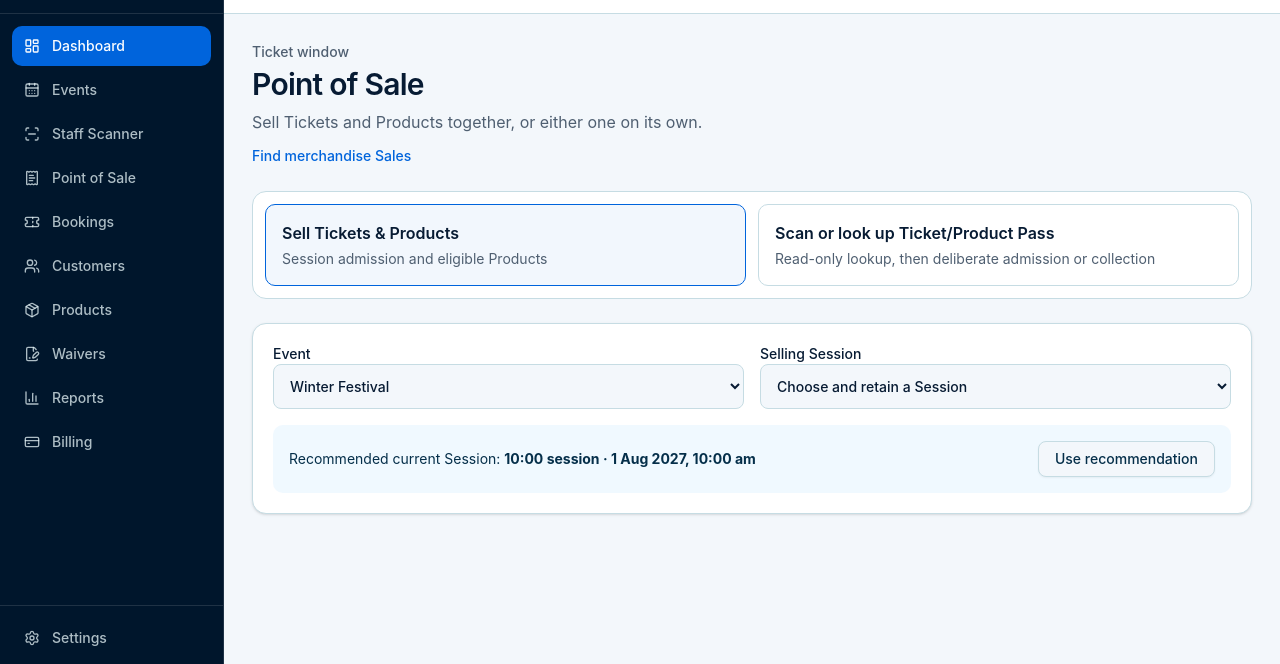
Scenario: PosPage › requires an explicit POS terms confirmation without collecting marketing
Click the button "Use recommendation".
click(1126, 459)  # box [1038,441,1215,477]
(page scrolled)
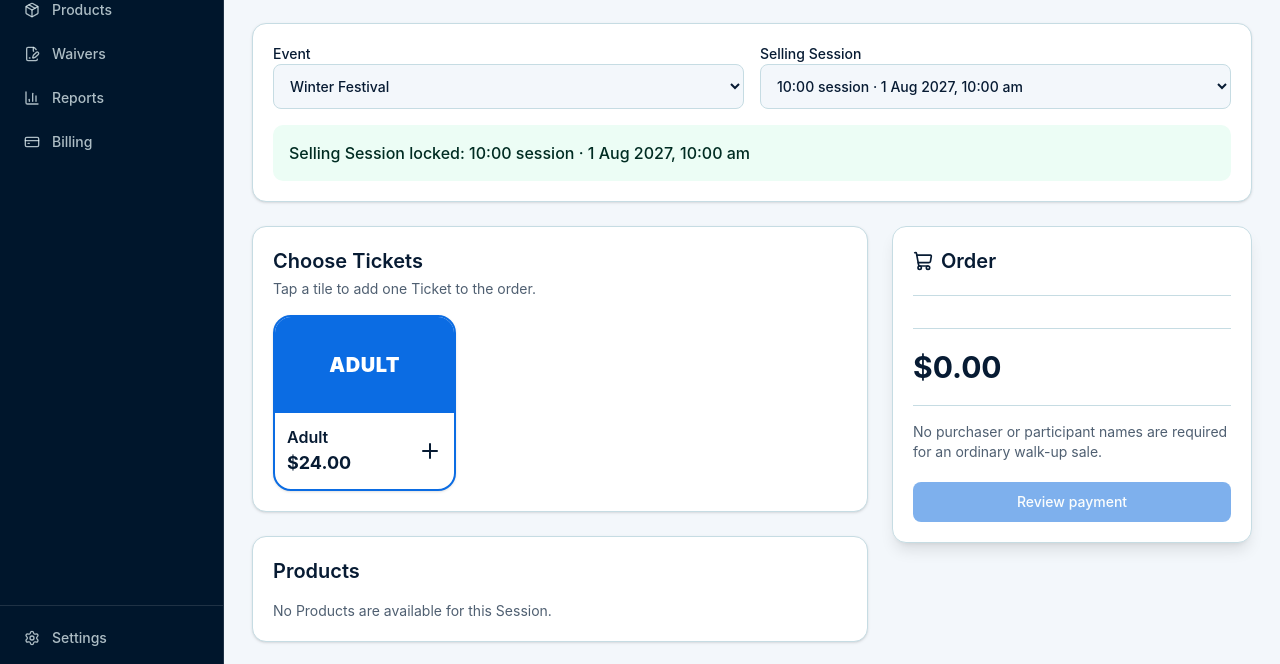
Click the button with aria-label "Add Ticket Adult".
click(365, 403)  # box [273,315,456,491]
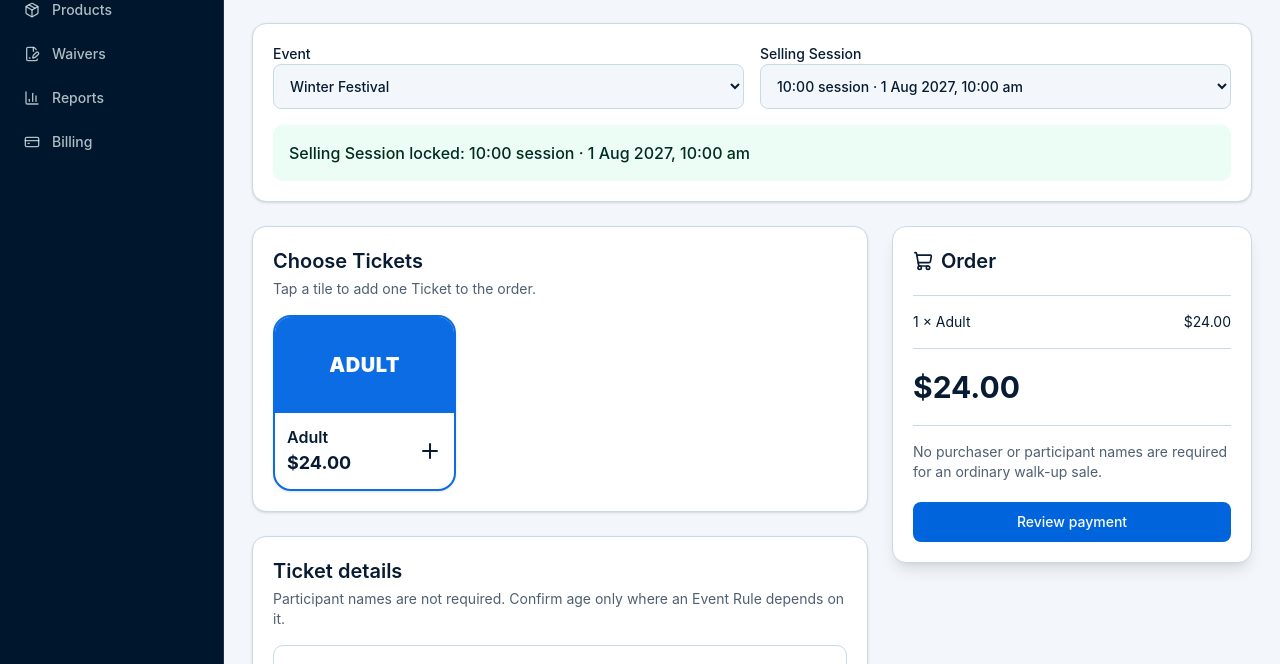
Click the button "Review payment".
click(1072, 522)  # box [913,502,1231,542]
(page scrolled)
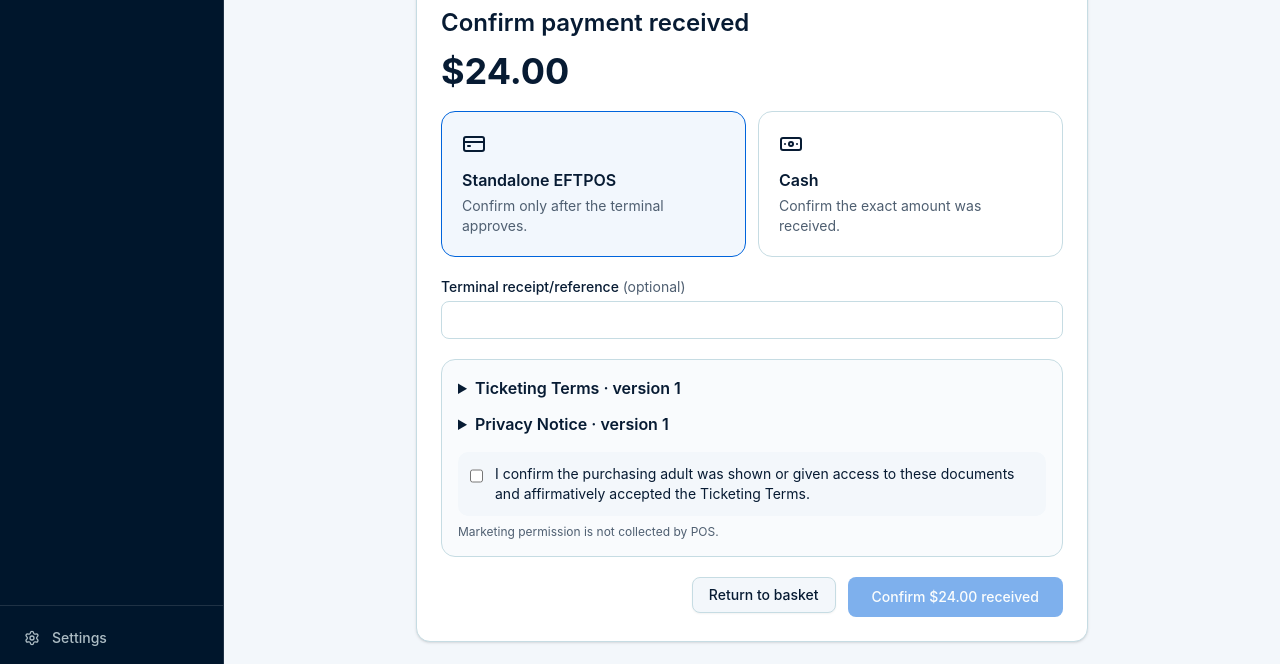
Now the button "Confirm $24.00 received" is disabled, box [848,577,1063,617]
Now the text "Marketing permission is not collected by POS." is shown, box [458,524,719,539]
Click the checkbox.
click(476, 476)  # box [470,468,483,484]
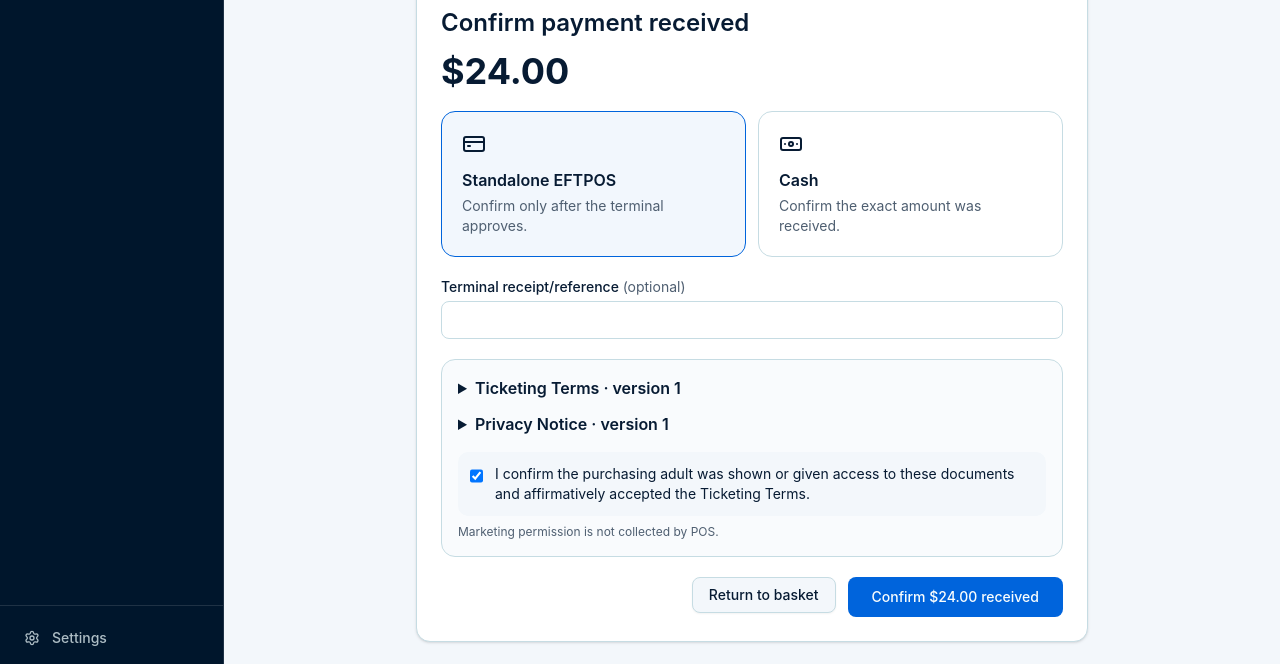
Now the button "Confirm $24.00 received" is enabled, box [848,577,1063,617]
